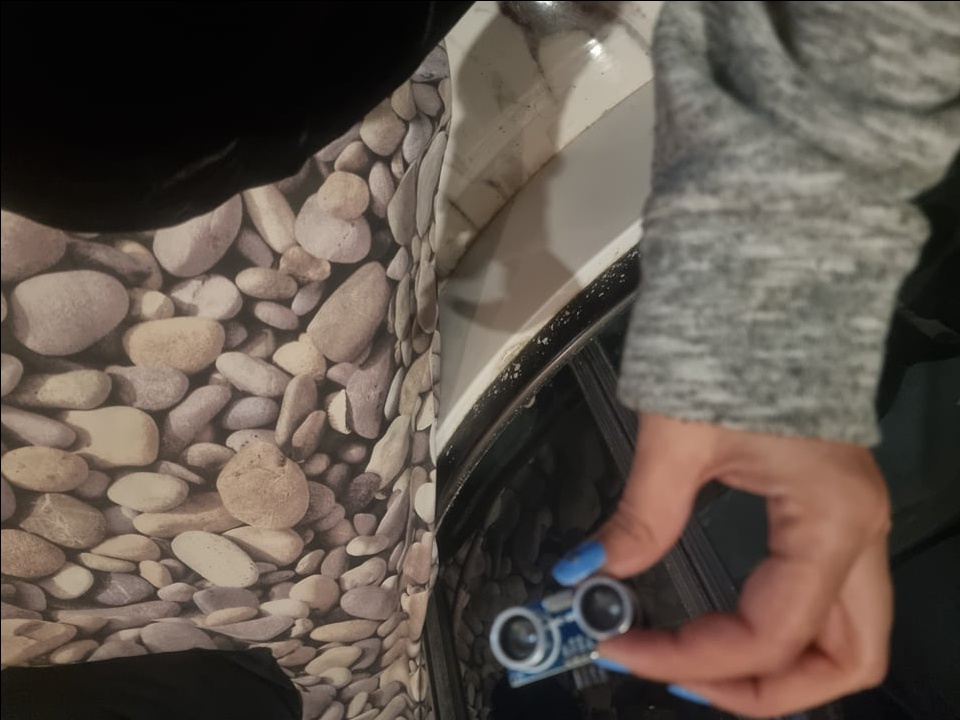SENSOR: (482, 575, 649, 675)
